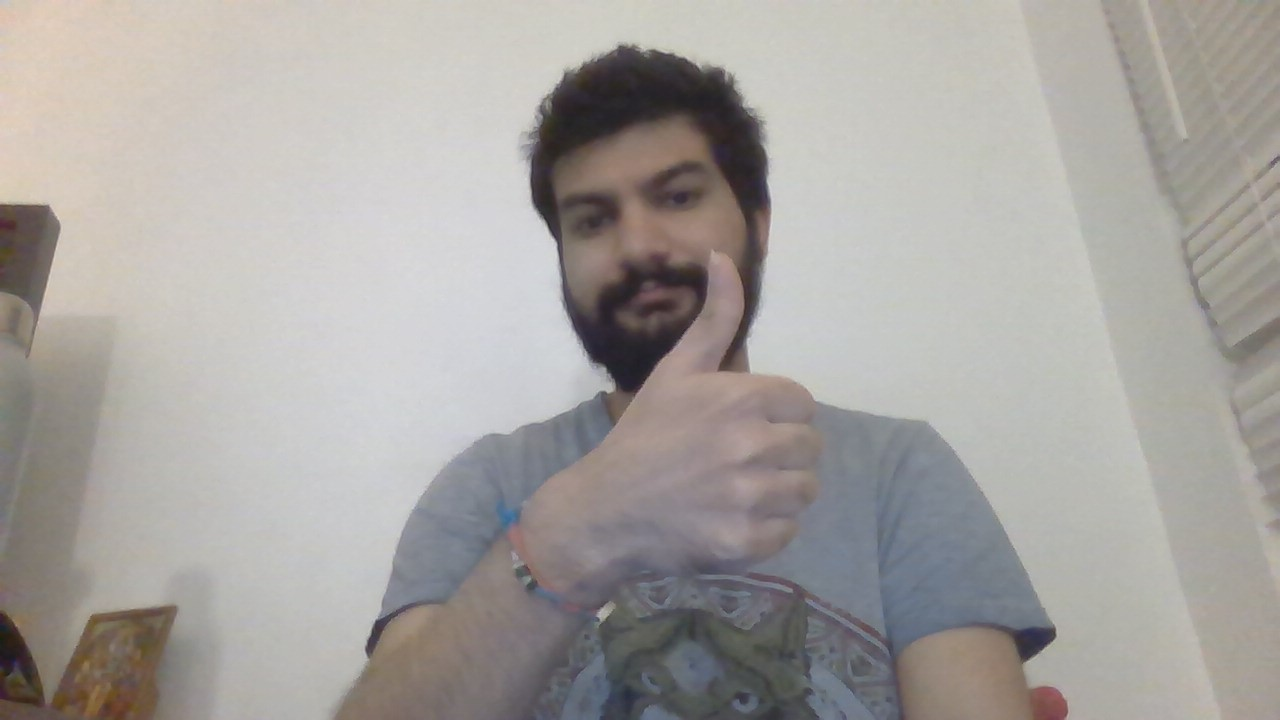up: (595, 246, 825, 573)
